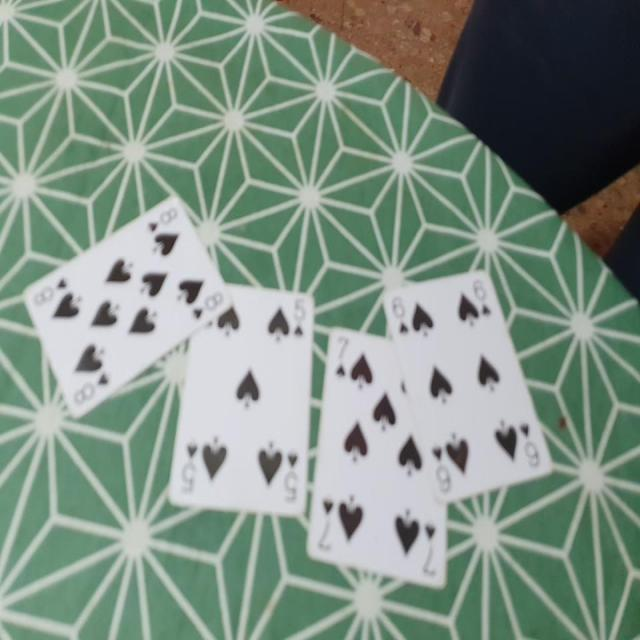5 Spades: (154, 277, 315, 528)
6 Spades: (377, 271, 553, 501)
7 Spades: (306, 321, 454, 599)
8 Spades: (17, 189, 234, 424)
